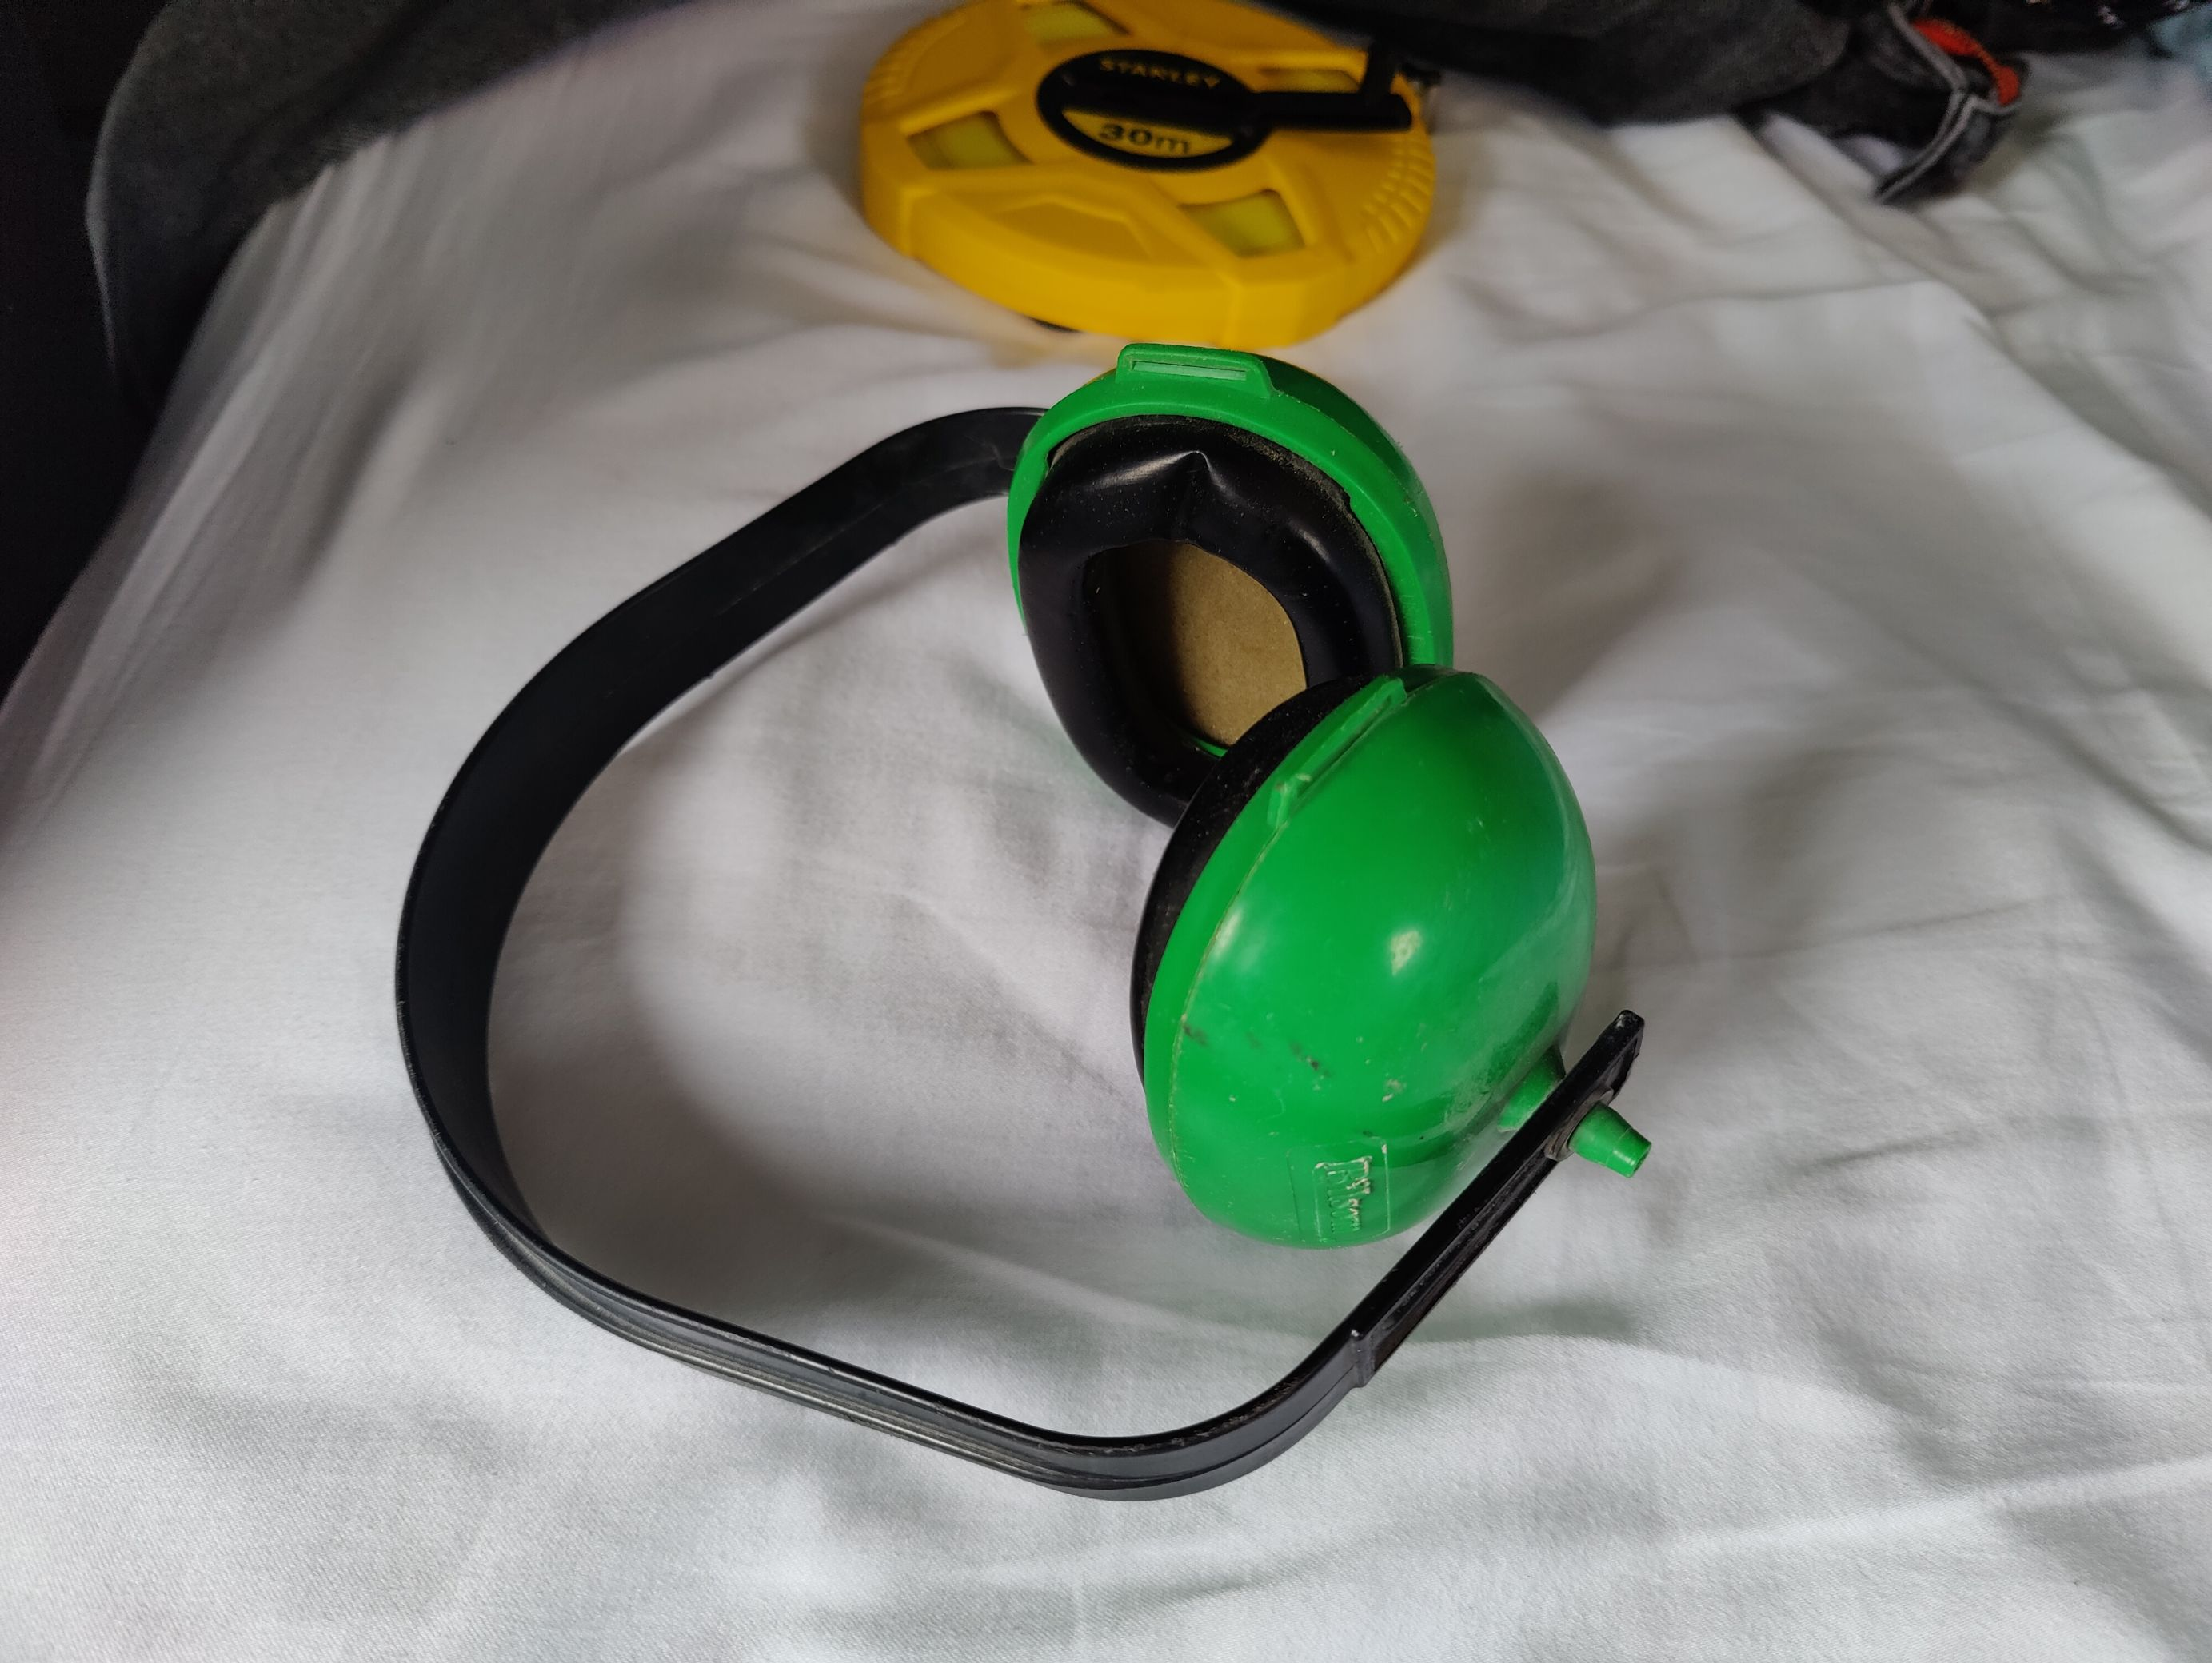headphones: (391, 356, 1655, 1502)
tapemeasure: (856, 9, 1450, 341)
